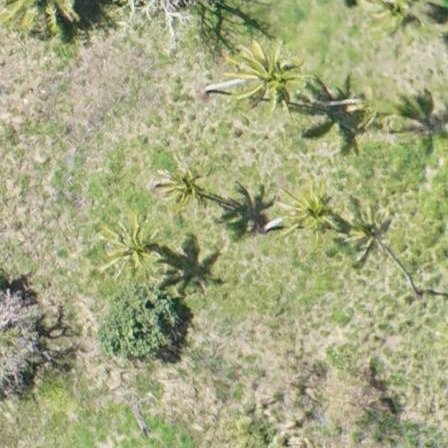palm_tree: (94, 210, 162, 282), (235, 42, 295, 106), (282, 183, 338, 243), (339, 203, 395, 261), (154, 158, 212, 213)
